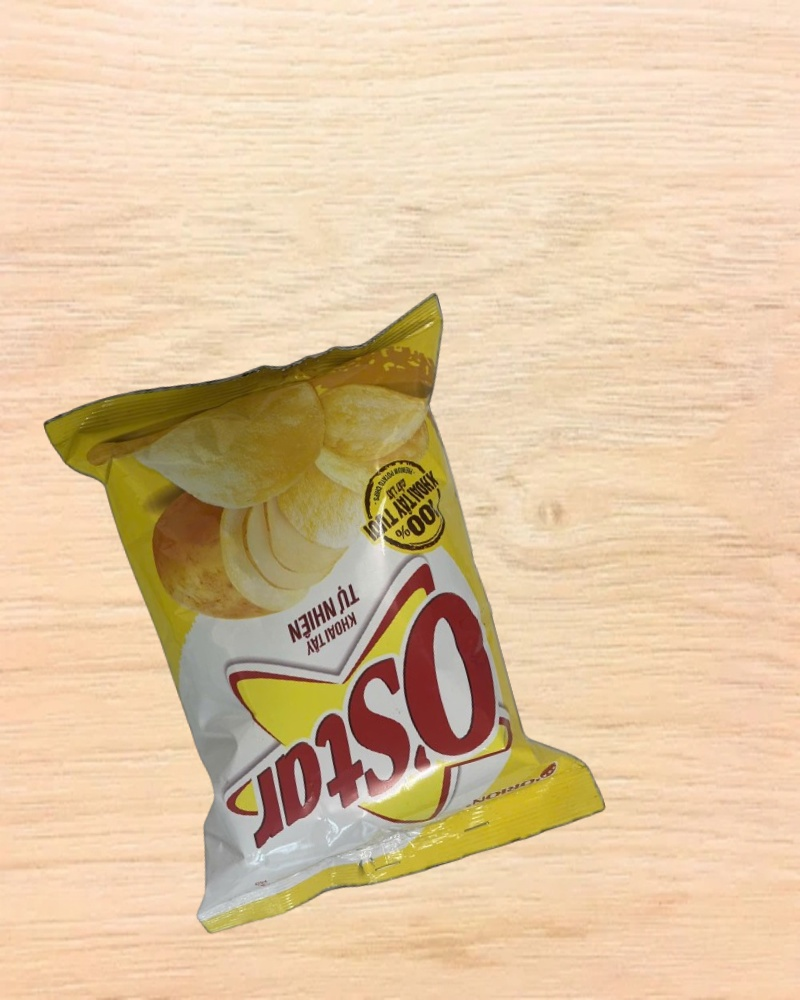Snack cua: (44, 292, 607, 934)
